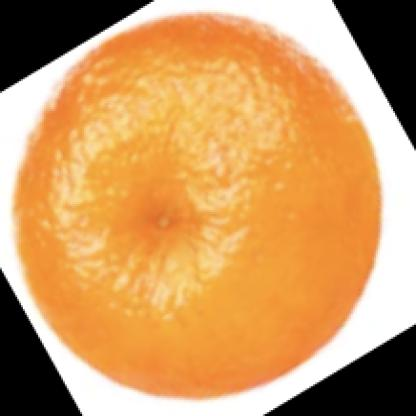fresh: (14, 14, 380, 401)
